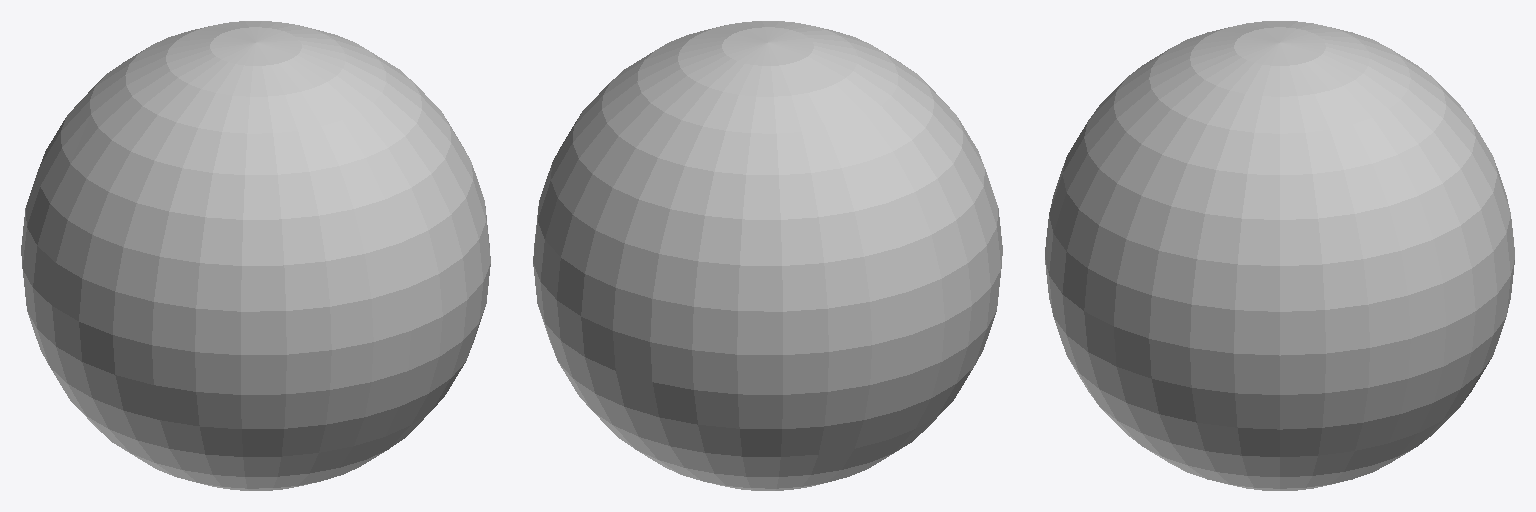
File: particle.obj
3 renders of one model, left to right at view 1: azimuth 30°, elevation 25°; view 2: azimuth 150°, elevation 25°; view 3: azimuth 270°, elevation 25°, orthographic.
Visible parts, largest first — view 1: 球; view 2: 球; view 3: 球.
Boxes of the visible parts, box(x1,y1,x2,y2) form: 球: box(21, 21, 490, 490); 球: box(533, 21, 1002, 490); 球: box(1045, 21, 1514, 490).
Bounding box in the file's own units: 0.3 × 0.3 × 0.3.